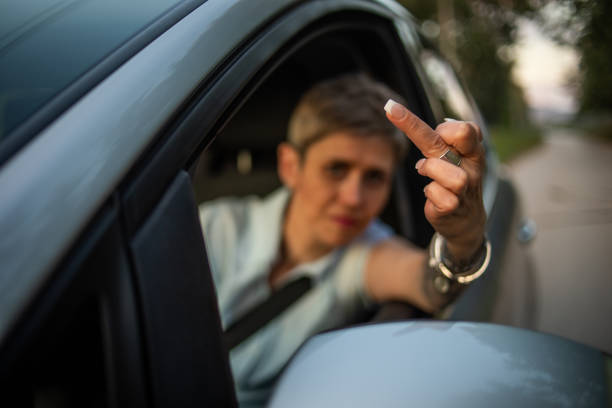insulting_gesture: (380, 98, 497, 243)
